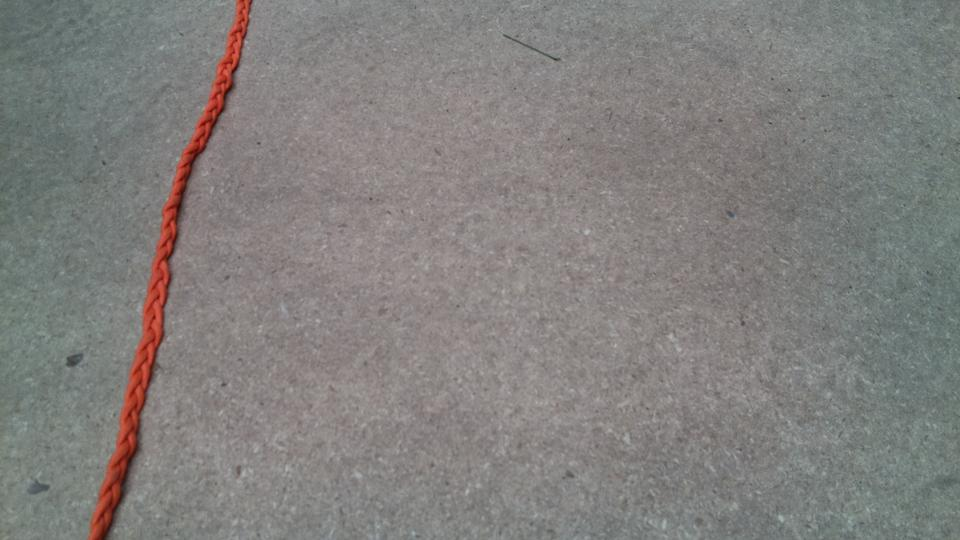rope: (84, 1, 260, 540)
